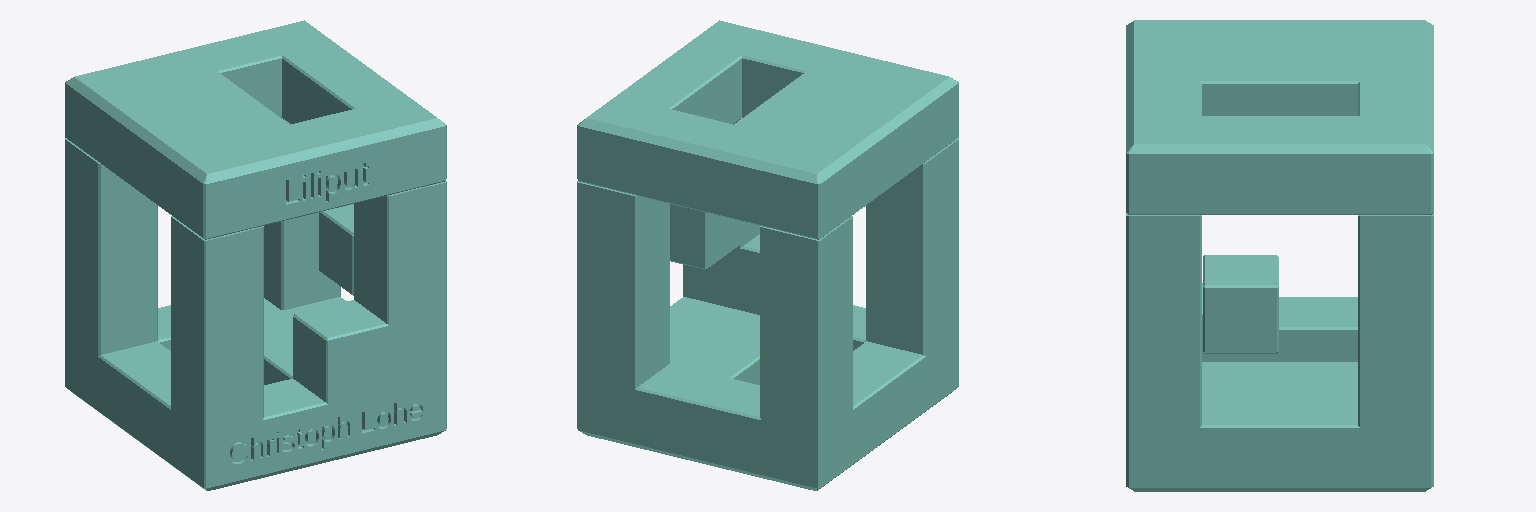
--- Render facts (derived) ---
Views: 3 orthographic renders of the robot side by side, from view 1: azimuth 30°, elevation 25°; view 2: azimuth 150°, elevation 25°; view 3: azimuth 270°, elevation 25°.
Model obj_1 with 1 links and 0 joints (none), rooted at link_piece_1, posed all joints at 0.
Links seen in each view (by area): view 1: link_piece_1; view 2: link_piece_1; view 3: link_piece_1.
Link boxes in pixels (left/top/right/bottom): link_piece_1: left=65, top=20, right=446, bottom=490; link_piece_1: left=577, top=20, right=958, bottom=490; link_piece_1: left=1126, top=20, right=1433, bottom=491.
Size in the robot's own frame: 0.641 by 0.6398 by 0.7983 metres.
1 mesh visuals loaded from 1 distinct referenced files (1 OBJ).

robot.urdf — obj_1:
<robot name="obj_1" version="1.0">
  <link name="link_piece_1">
    <collision name="piece_1-collision.001">
      <origin rpy="3.14159 -1.57080 0.00000" xyz="-0.15224 0.42227 0.40337"/>
      <geometry>
        <mesh filename="../meshes/obj/piece_1-collision.001.obj" scale="2.67513 2.67513 2.67513"/>
      </geometry>
    </collision>
    <collision name="piece_1-collision.002">
      <origin rpy="1.57080 0.00000 -3.14159" xyz="-0.23129 0.50132 0.40337"/>
      <geometry>
        <mesh filename="../meshes/obj/piece_1-collision.002.obj" scale="2.67513 2.67513 2.67513"/>
      </geometry>
    </collision>
    <collision name="piece_1-collision.003">
      <origin rpy="3.14159 1.57080 0.00000" xyz="-0.31034 0.42227 0.40337"/>
      <geometry>
        <mesh filename="../meshes/obj/piece_1-collision.003.obj" scale="2.67513 2.67513 2.67513"/>
      </geometry>
    </collision>
    <collision name="piece_1-collision.004">
      <origin rpy="-3.14159 -0.00000 -1.57080" xyz="-0.23129 0.42227 0.32432"/>
      <geometry>
        <mesh filename="../meshes/obj/piece_1-collision.004.obj" scale="2.67513 2.67513 2.67513"/>
      </geometry>
    </collision>
    <collision name="piece_1-collision.005">
      <origin rpy="3.14159 -1.57080 0.00000" xyz="-0.15342 0.50381 0.71549"/>
      <geometry>
        <mesh filename="../meshes/obj/piece_1-collision.005.obj" scale="2.67513 2.67513 2.67513"/>
      </geometry>
    </collision>
    <collision name="piece_1-collision.006">
      <origin rpy="1.57080 0.00000 -3.14159" xyz="-0.47323 0.82362 0.71549"/>
      <geometry>
        <mesh filename="../meshes/obj/piece_1-collision.006.obj" scale="2.67513 2.67513 2.67513"/>
      </geometry>
    </collision>
    <collision name="piece_1-collision.007">
      <origin rpy="3.14159 1.57080 0.00000" xyz="-0.79304 0.50381 0.71549"/>
      <geometry>
        <mesh filename="../meshes/obj/piece_1-collision.007.obj" scale="2.67513 2.67513 2.67513"/>
      </geometry>
    </collision>
    <collision name="piece_1-collision.008">
      <origin rpy="1.57080 0.00000 0.00000" xyz="-0.47323 0.18400 0.71549"/>
      <geometry>
        <mesh filename="../meshes/obj/piece_1-collision.008.obj" scale="2.67513 2.67513 2.67513"/>
      </geometry>
    </collision>
    <collision name="piece_1-collision.009">
      <origin rpy="0.00000 0.00000 -1.57080" xyz="-0.62783 0.73866 0.80045"/>
      <geometry>
        <mesh filename="../meshes/obj/piece_1-collision.009.obj" scale="2.67513 2.67513 2.67513"/>
      </geometry>
    </collision>
    <collision name="piece_1-collision.010">
      <origin rpy="0.00000 -0.00000 -1.57080" xyz="-0.62783 0.43540 0.80045"/>
      <geometry>
        <mesh filename="../meshes/obj/piece_1-collision.010.obj" scale="2.67513 2.67513 2.67513"/>
      </geometry>
    </collision>
    <collision name="piece_1-collision.011">
      <origin rpy="-0.00000 0.00000 -1.57080" xyz="-0.32456 0.73866 0.80045"/>
      <geometry>
        <mesh filename="../meshes/obj/piece_1-collision.011.obj" scale="2.67513 2.67513 2.67513"/>
      </geometry>
    </collision>
    <collision name="piece_1-collision.012">
      <origin rpy="0.00000 0.00000 -1.57080" xyz="-0.23849 0.43540 0.80045"/>
      <geometry>
        <mesh filename="../meshes/obj/piece_1-collision.012.obj" scale="2.67513 2.67513 2.67513"/>
      </geometry>
    </collision>
    <collision name="piece_1-collision.013">
      <origin rpy="0.00000 0.00000 -1.57080" xyz="-0.39309 0.26896 0.80045"/>
      <geometry>
        <mesh filename="../meshes/obj/piece_1-collision.013.obj" scale="2.67513 2.67513 2.67513"/>
      </geometry>
    </collision>
    <collision name="piece_1-collision.014">
      <origin rpy="1.57080 0.00000 0.78477" xyz="-0.15578 0.18636 0.71549"/>
      <geometry>
        <mesh filename="../meshes/obj/piece_1-collision.014.obj" scale="2.67513 2.67513 2.67513"/>
      </geometry>
    </collision>
    <collision name="piece_1-collision.015">
      <origin rpy="1.57080 0.00000 2.35676" xyz="-0.15578 0.82126 0.71549"/>
      <geometry>
        <mesh filename="../meshes/obj/piece_1-collision.015.obj" scale="2.67513 2.67513 2.67513"/>
      </geometry>
    </collision>
    <collision name="piece_1-collision.016">
      <origin rpy="-2.35619 1.57080 0.00000" xyz="-0.79068 0.82126 0.71549"/>
      <geometry>
        <mesh filename="../meshes/obj/piece_1-collision.016.obj" scale="2.67513 2.67513 2.67513"/>
      </geometry>
    </collision>
    <collision name="piece_1-collision.017">
      <origin rpy="1.57080 -0.00000 -0.78533" xyz="-0.79068 0.18636 0.71549"/>
      <geometry>
        <mesh filename="../meshes/obj/piece_1-collision.017.obj" scale="2.67513 2.67513 2.67513"/>
      </geometry>
    </collision>
    <collision name="piece_1-collision.018">
      <origin rpy="3.14159 1.57080 0.00000" xyz="-0.79264 0.74457 0.39883"/>
      <geometry>
        <mesh filename="../meshes/obj/piece_1-collision.018.obj" scale="2.67513 2.67513 2.67513"/>
      </geometry>
    </collision>
    <collision name="piece_1-collision.019">
      <origin rpy="3.14159 1.57080 0.00000" xyz="-0.79264 0.57813 0.08735"/>
      <geometry>
        <mesh filename="../meshes/obj/piece_1-collision.019.obj" scale="2.67513 2.67513 2.67513"/>
      </geometry>
    </collision>
    <collision name="piece_1-collision.020">
      <origin rpy="3.14159 1.57080 0.00000" xyz="-0.79264 0.26305 0.33042"/>
      <geometry>
        <mesh filename="../meshes/obj/piece_1-collision.020.obj" scale="2.67513 2.67513 2.67513"/>
      </geometry>
    </collision>
    <collision name="piece_1-collision.021">
      <origin rpy="1.57080 0.00000 -3.14159" xyz="-0.31232 0.34210 0.23837"/>
      <geometry>
        <mesh filename="../meshes/obj/piece_1-collision.021.obj" scale="2.67513 2.67513 2.67513"/>
      </geometry>
    </collision>
    <collision name="piece_1-collision.022">
      <origin rpy="1.57080 -0.00000 -3.14159" xyz="-0.23206 0.34210 0.32112"/>
      <geometry>
        <mesh filename="../meshes/obj/piece_1-collision.022.obj" scale="2.67513 2.67513 2.67513"/>
      </geometry>
    </collision>
    <collision name="piece_1-collision.023">
      <origin rpy="0.00000 -0.00000 -1.57080" xyz="-0.38900 0.26305 0.32099"/>
      <geometry>
        <mesh filename="../meshes/obj/piece_1-collision.023.obj" scale="2.67513 2.67513 2.67513"/>
      </geometry>
    </collision>
    <collision name="piece_1-collision.024">
      <origin rpy="3.14159 1.57080 0.00000" xyz="-0.47162 0.26305 0.23837"/>
      <geometry>
        <mesh filename="../meshes/obj/piece_1-collision.024.obj" scale="2.67513 2.67513 2.67513"/>
      </geometry>
    </collision>
    <collision name="piece_1-collision.025">
      <origin rpy="3.14159 1.57080 0.00000" xyz="-0.31111 0.26305 0.48145"/>
      <geometry>
        <mesh filename="../meshes/obj/piece_1-collision.025.obj" scale="2.67513 2.67513 2.67513"/>
      </geometry>
    </collision>
    <collision name="piece_1-collision.026">
      <origin rpy="1.57080 0.00000 -3.14159" xyz="-0.23206 0.34210 0.56050"/>
      <geometry>
        <mesh filename="../meshes/obj/piece_1-collision.026.obj" scale="2.67513 2.67513 2.67513"/>
      </geometry>
    </collision>
    <collision name="piece_1-collision.027">
      <origin rpy="0.00000 -0.00000 -1.57080" xyz="-0.23129 0.42227 0.48242"/>
      <geometry>
        <mesh filename="../meshes/obj/piece_1-collision.027.obj" scale="2.67513 2.67513 2.67513"/>
      </geometry>
    </collision>
    <collision name="piece_1-collision.028">
      <origin rpy="3.14159 -1.57080 0.00000" xyz="-0.15301 0.26305 0.39883"/>
      <geometry>
        <mesh filename="../meshes/obj/piece_1-collision.028.obj" scale="2.67513 2.67513 2.67513"/>
      </geometry>
    </collision>
    <collision name="piece_1-collision.029">
      <origin rpy="3.14159 -1.57080 0.00000" xyz="-0.15301 0.42949 0.08735"/>
      <geometry>
        <mesh filename="../meshes/obj/piece_1-collision.029.obj" scale="2.67513 2.67513 2.67513"/>
      </geometry>
    </collision>
    <collision name="piece_1-collision.030">
      <origin rpy="3.14159 -1.57080 0.00000" xyz="-0.15301 0.74457 0.33042"/>
      <geometry>
        <mesh filename="../meshes/obj/piece_1-collision.030.obj" scale="2.67513 2.67513 2.67513"/>
      </geometry>
    </collision>
    <collision name="piece_1-collision.031">
      <origin rpy="1.57080 0.00000 -3.14159" xyz="-0.23206 0.82362 0.39883"/>
      <geometry>
        <mesh filename="../meshes/obj/piece_1-collision.031.obj" scale="2.67513 2.67513 2.67513"/>
      </geometry>
    </collision>
    <collision name="piece_1-collision.032">
      <origin rpy="1.57080 -0.00000 3.14159" xyz="-0.39851 0.82362 0.08735"/>
      <geometry>
        <mesh filename="../meshes/obj/piece_1-collision.032.obj" scale="2.67513 2.67513 2.67513"/>
      </geometry>
    </collision>
    <collision name="piece_1-collision.033">
      <origin rpy="1.57080 0.00000 -3.14159" xyz="-0.71359 0.82362 0.33042"/>
      <geometry>
        <mesh filename="../meshes/obj/piece_1-collision.033.obj" scale="2.67513 2.67513 2.67513"/>
      </geometry>
    </collision>
    <collision name="piece_1-collision.034">
      <origin rpy="0.00000 0.00000 -1.57080" xyz="-0.71359 0.50381 0.16048"/>
      <geometry>
        <mesh filename="../meshes/obj/piece_1-collision.034.obj" scale="2.67513 2.67513 2.67513"/>
      </geometry>
    </collision>
    <collision name="piece_1-collision.035">
      <origin rpy="0.00000 -0.00000 -1.57080" xyz="-0.55308 0.26305 0.16048"/>
      <geometry>
        <mesh filename="../meshes/obj/piece_1-collision.035.obj" scale="2.67513 2.67513 2.67513"/>
      </geometry>
    </collision>
    <collision name="piece_1-collision.036">
      <origin rpy="0.00000 0.00000 -1.57080" xyz="-0.47283 0.74457 0.16048"/>
      <geometry>
        <mesh filename="../meshes/obj/piece_1-collision.036.obj" scale="2.67513 2.67513 2.67513"/>
      </geometry>
    </collision>
    <collision name="piece_1-collision.037">
      <origin rpy="-0.00000 -0.00000 1.57080" xyz="-0.31232 0.50618 0.16048"/>
      <geometry>
        <mesh filename="../meshes/obj/piece_1-collision.037.obj" scale="2.67513 2.67513 2.67513"/>
      </geometry>
    </collision>
    <collision name="piece_1-collision.038">
      <origin rpy="1.57080 0.00000 -3.14159" xyz="-0.55308 0.34210 0.08143"/>
      <geometry>
        <mesh filename="../meshes/obj/piece_1-collision.038.obj" scale="2.67513 2.67513 2.67513"/>
      </geometry>
    </collision>
    <collision name="piece_1-collision.039">
      <origin rpy="3.14159 -1.57080 0.00000" xyz="-0.63454 0.50381 0.08143"/>
      <geometry>
        <mesh filename="../meshes/obj/piece_1-collision.039.obj" scale="2.67513 2.67513 2.67513"/>
      </geometry>
    </collision>
    <collision name="piece_1-collision.040">
      <origin rpy="1.57080 0.00000 0.00000" xyz="-0.55308 0.66552 0.08143"/>
      <geometry>
        <mesh filename="../meshes/obj/piece_1-collision.040.obj" scale="2.67513 2.67513 2.67513"/>
      </geometry>
    </collision>
    <collision name="piece_1-collision.041">
      <origin rpy="3.14159 1.57080 0.00000" xyz="-0.47162 0.50381 0.08143"/>
      <geometry>
        <mesh filename="../meshes/obj/piece_1-collision.041.obj" scale="2.67513 2.67513 2.67513"/>
      </geometry>
    </collision>
    <collision name="piece_1-collision.042">
      <origin rpy="1.57080 0.00000 0.00000" xyz="-0.31232 0.18400 0.16760"/>
      <geometry>
        <mesh filename="../meshes/obj/piece_1-collision.042.obj" scale="2.67513 2.67513 2.67513"/>
      </geometry>
    </collision>
    <collision name="piece_1-collision.043">
      <origin rpy="1.57080 0.00000 0.00000" xyz="-0.23206 0.18400 0.47909"/>
      <geometry>
        <mesh filename="../meshes/obj/piece_1-collision.043.obj" scale="2.67513 2.67513 2.67513"/>
      </geometry>
    </collision>
    <collision name="piece_1-collision.044">
      <origin rpy="1.57080 0.00000 0.00000" xyz="-0.62740 0.18400 0.08735"/>
      <geometry>
        <mesh filename="../meshes/obj/piece_1-collision.044.obj" scale="2.67513 2.67513 2.67513"/>
      </geometry>
    </collision>
    <collision name="piece_1-collision.045">
      <origin rpy="1.57080 0.00000 0.00000" xyz="-0.71282 0.18400 0.39888"/>
      <geometry>
        <mesh filename="../meshes/obj/piece_1-collision.045.obj" scale="2.67513 2.67513 2.67513"/>
      </geometry>
    </collision>
    <collision name="piece_1-collision.046">
      <origin rpy="-3.14159 -0.00000 -1.57080" xyz="-0.70768 0.26896 0.00238"/>
      <geometry>
        <mesh filename="../meshes/obj/piece_1-collision.046.obj" scale="2.67513 2.67513 2.67513"/>
      </geometry>
    </collision>
    <collision name="piece_1-collision.047">
      <origin rpy="3.14159 -0.00000 -1.57080" xyz="-0.70768 0.57222 0.00238"/>
      <geometry>
        <mesh filename="../meshes/obj/piece_1-collision.047.obj" scale="2.67513 2.67513 2.67513"/>
      </geometry>
    </collision>
    <collision name="piece_1-collision.048">
      <origin rpy="3.14159 0.00000 -1.57080" xyz="-0.40442 0.73866 0.00238"/>
      <geometry>
        <mesh filename="../meshes/obj/piece_1-collision.048.obj" scale="2.67513 2.67513 2.67513"/>
      </geometry>
    </collision>
    <collision name="piece_1-collision.049">
      <origin rpy="-3.14159 0.00000 -1.57080" xyz="-0.31823 0.43540 0.00238"/>
      <geometry>
        <mesh filename="../meshes/obj/piece_1-collision.049.obj" scale="2.67513 2.67513 2.67513"/>
      </geometry>
    </collision>
    <collision name="piece_1-collision.050">
      <origin rpy="-3.14159 -0.00000 -1.57080" xyz="-0.55308 0.26896 0.00238"/>
      <geometry>
        <mesh filename="../meshes/obj/piece_1-collision.050.obj" scale="2.67513 2.67513 2.67513"/>
      </geometry>
    </collision>
    <collision name="piece_1-collision.051">
      <origin rpy="1.57080 0.00000 -3.14159" xyz="-0.39297 0.34210 0.72140"/>
      <geometry>
        <mesh filename="../meshes/obj/piece_1-collision.051.obj" scale="2.67513 2.67513 2.67513"/>
      </geometry>
    </collision>
    <collision name="piece_1-collision.052">
      <origin rpy="3.14159 1.57080 0.00000" xyz="-0.31152 0.50381 0.72140"/>
      <geometry>
        <mesh filename="../meshes/obj/piece_1-collision.052.obj" scale="2.67513 2.67513 2.67513"/>
      </geometry>
    </collision>
    <collision name="piece_1-collision.053">
      <origin rpy="1.57080 0.00000 0.00000" xyz="-0.39297 0.66552 0.72140"/>
      <geometry>
        <mesh filename="../meshes/obj/piece_1-collision.053.obj" scale="2.67513 2.67513 2.67513"/>
      </geometry>
    </collision>
    <collision name="piece_1-collision.054">
      <origin rpy="-0.00000 1.57080 0.00000" xyz="-0.47443 0.50381 0.72140"/>
      <geometry>
        <mesh filename="../meshes/obj/piece_1-collision.054.obj" scale="2.67513 2.67513 2.67513"/>
      </geometry>
    </collision>
    <collision name="piece_1-collision.055">
      <origin rpy="3.14159 0.00000 -1.57080" xyz="-0.39514 0.26305 0.64213"/>
      <geometry>
        <mesh filename="../meshes/obj/piece_1-collision.055.obj" scale="2.67513 2.67513 2.67513"/>
      </geometry>
    </collision>
    <collision name="piece_1-collision.056">
      <origin rpy="-3.14159 -0.00000 -1.57080" xyz="-0.55685 0.50381 0.64235"/>
      <geometry>
        <mesh filename="../meshes/obj/piece_1-collision.056.obj" scale="2.67513 2.67513 2.67513"/>
      </geometry>
    </collision>
    <collision name="piece_1-collision.057">
      <origin rpy="-3.14159 -0.00000 -1.57080" xyz="-0.39514 0.74457 0.64191"/>
      <geometry>
        <mesh filename="../meshes/obj/piece_1-collision.057.obj" scale="2.67513 2.67513 2.67513"/>
      </geometry>
    </collision>
    <collision name="piece_1-collision.058">
      <origin rpy="1.57080 0.00000 0.00000" xyz="-0.71359 0.66552 0.40120"/>
      <geometry>
        <mesh filename="../meshes/obj/piece_1-collision.058.obj" scale="2.67513 2.67513 2.67513"/>
      </geometry>
    </collision>
    <collision name="piece_1-collision.059">
      <origin rpy="1.57080 0.00000 0.00000" xyz="-0.23206 0.66552 0.40120"/>
      <geometry>
        <mesh filename="../meshes/obj/piece_1-collision.059.obj" scale="2.67513 2.67513 2.67513"/>
      </geometry>
    </collision>
    <collision name="piece_1-collision.060">
      <origin rpy="3.14159 1.57080 0.00000" xyz="-0.31111 0.74457 0.40120"/>
      <geometry>
        <mesh filename="../meshes/obj/piece_1-collision.060.obj" scale="2.67513 2.67513 2.67513"/>
      </geometry>
    </collision>
    <collision name="piece_1-collision.061">
      <origin rpy="1.57080 0.00000 -3.14159" xyz="-0.71359 0.34210 0.40120"/>
      <geometry>
        <mesh filename="../meshes/obj/piece_1-collision.061.obj" scale="2.67513 2.67513 2.67513"/>
      </geometry>
    </collision>
    <collision name="piece_1-collision.062">
      <origin rpy="3.14159 -1.57080 0.00000" xyz="-0.63454 0.26305 0.40120"/>
      <geometry>
        <mesh filename="../meshes/obj/piece_1-collision.062.obj" scale="2.67513 2.67513 2.67513"/>
      </geometry>
    </collision>
    <collision name="piece_1-collision.063">
      <origin rpy="-3.14159 0.00000 -1.57080" xyz="-0.71127 0.50376 0.64191"/>
      <geometry>
        <mesh filename="../meshes/obj/piece_1-collision.063.obj" scale="2.67513 2.67513 2.67513"/>
      </geometry>
    </collision>
    <collision name="piece_1-collision.064">
      <origin rpy="3.14159 -1.57080 0.00000" xyz="-0.63454 0.74457 0.40120"/>
      <geometry>
        <mesh filename="../meshes/obj/piece_1-collision.064.obj" scale="2.67513 2.67513 2.67513"/>
      </geometry>
    </collision>
    <collision name="piece_1-collision.065">
      <origin rpy="1.57080 0.00000 0.00000" xyz="-0.22733 0.33776 0.37979"/>
      <geometry>
        <mesh filename="../meshes/obj/piece_1-collision.065.obj" scale="0.01338 0.01338 0.01338"/>
      </geometry>
    </collision>
    <collision name="piece_1-collision.066">
      <origin rpy="1.57080 0.00000 0.00000" xyz="-0.22733 0.33776 0.37979"/>
      <geometry>
        <mesh filename="../meshes/obj/piece_1-collision.066.obj" scale="0.01338 0.01338 0.01338"/>
      </geometry>
    </collision>
    <collision name="piece_1-collision.067">
      <origin rpy="1.57080 0.00000 0.00000" xyz="-0.22733 0.33776 0.37979"/>
      <geometry>
        <mesh filename="../meshes/obj/piece_1-collision.067.obj" scale="0.01338 0.01338 0.01338"/>
      </geometry>
    </collision>
    <collision name="piece_1-collision.068">
      <origin rpy="1.57080 0.00000 0.00000" xyz="-0.22733 0.33776 0.37979"/>
      <geometry>
        <mesh filename="../meshes/obj/piece_1-collision.068.obj" scale="0.01338 0.01338 0.01338"/>
      </geometry>
    </collision>
    <collision name="piece_1-collision.069">
      <origin rpy="1.57080 0.00000 0.00000" xyz="-0.22733 0.33776 0.37979"/>
      <geometry>
        <mesh filename="../meshes/obj/piece_1-collision.069.obj" scale="0.01338 0.01338 0.01338"/>
      </geometry>
    </collision>
    <collision name="piece_1-collision.070">
      <origin rpy="1.57080 0.00000 0.00000" xyz="-0.22733 0.33776 0.37979"/>
      <geometry>
        <mesh filename="../meshes/obj/piece_1-collision.070.obj" scale="0.01338 0.01338 0.01338"/>
      </geometry>
    </collision>
    <collision name="piece_1-collision.071">
      <origin rpy="1.57080 0.00000 0.00000" xyz="-0.22733 0.33776 0.37979"/>
      <geometry>
        <mesh filename="../meshes/obj/piece_1-collision.071.obj" scale="0.01338 0.01338 0.01338"/>
      </geometry>
    </collision>
    <collision name="piece_1-collision.072">
      <origin rpy="1.57080 0.00000 0.00000" xyz="-0.22733 0.33776 0.37979"/>
      <geometry>
        <mesh filename="../meshes/obj/piece_1-collision.072.obj" scale="0.01338 0.01338 0.01338"/>
      </geometry>
    </collision>
    <collision name="piece_1-collision.073">
      <origin rpy="1.57080 0.00000 0.00000" xyz="-0.22733 0.33776 0.37979"/>
      <geometry>
        <mesh filename="../meshes/obj/piece_1-collision.073.obj" scale="0.01338 0.01338 0.01338"/>
      </geometry>
    </collision>
    <collision name="piece_1-collision.074">
      <origin rpy="1.57080 0.00000 0.00000" xyz="-0.22733 0.33776 0.37979"/>
      <geometry>
        <mesh filename="../meshes/obj/piece_1-collision.074.obj" scale="0.01338 0.01338 0.01338"/>
      </geometry>
    </collision>
    <collision name="piece_1-collision.075">
      <origin rpy="1.57080 0.00000 0.00000" xyz="-0.22733 0.33776 0.37979"/>
      <geometry>
        <mesh filename="../meshes/obj/piece_1-collision.075.obj" scale="0.01338 0.01338 0.01338"/>
      </geometry>
    </collision>
    <collision name="piece_1-collision.076">
      <origin rpy="1.57080 0.00000 0.00000" xyz="-0.22733 0.33776 0.37979"/>
      <geometry>
        <mesh filename="../meshes/obj/piece_1-collision.076.obj" scale="0.01338 0.01338 0.01338"/>
      </geometry>
    </collision>
    <collision name="piece_1-collision.077">
      <origin rpy="1.57080 0.00000 0.00000" xyz="-0.22733 0.33776 0.37979"/>
      <geometry>
        <mesh filename="../meshes/obj/piece_1-collision.077.obj" scale="0.01338 0.01338 0.01338"/>
      </geometry>
    </collision>
    <collision name="piece_1-collision.078">
      <origin rpy="1.57080 0.00000 0.00000" xyz="-0.22733 0.33776 0.37979"/>
      <geometry>
        <mesh filename="../meshes/obj/piece_1-collision.078.obj" scale="0.01338 0.01338 0.01338"/>
      </geometry>
    </collision>
    <collision name="piece_1-collision.079">
      <origin rpy="1.57080 0.00000 0.00000" xyz="-0.22733 0.33776 0.37979"/>
      <geometry>
        <mesh filename="../meshes/obj/piece_1-collision.079.obj" scale="0.01338 0.01338 0.01338"/>
      </geometry>
    </collision>
    <collision name="piece_1-collision.080">
      <origin rpy="1.57080 0.00000 0.00000" xyz="-0.22733 0.33776 0.37979"/>
      <geometry>
        <mesh filename="../meshes/obj/piece_1-collision.080.obj" scale="0.01338 0.01338 0.01338"/>
      </geometry>
    </collision>
    <collision name="piece_1-collision.081">
      <origin rpy="1.57080 0.00000 0.00000" xyz="-0.22733 0.33776 0.37979"/>
      <geometry>
        <mesh filename="../meshes/obj/piece_1-collision.081.obj" scale="0.01338 0.01338 0.01338"/>
      </geometry>
    </collision>
    <collision name="piece_1-collision.082">
      <origin rpy="1.57080 0.00000 0.00000" xyz="-0.22733 0.33776 0.37979"/>
      <geometry>
        <mesh filename="../meshes/obj/piece_1-collision.082.obj" scale="0.01338 0.01338 0.01338"/>
      </geometry>
    </collision>
    <collision name="piece_1-collision.083">
      <origin rpy="1.57080 0.00000 0.00000" xyz="-0.22733 0.33776 0.37979"/>
      <geometry>
        <mesh filename="../meshes/obj/piece_1-collision.083.obj" scale="0.01338 0.01338 0.01338"/>
      </geometry>
    </collision>
    <collision name="piece_1-collision.084">
      <origin rpy="1.57080 0.00000 0.00000" xyz="-0.22733 0.33776 0.37979"/>
      <geometry>
        <mesh filename="../meshes/obj/piece_1-collision.084.obj" scale="0.01338 0.01338 0.01338"/>
      </geometry>
    </collision>
    <collision name="piece_1-collision.085">
      <origin rpy="1.57080 0.00000 0.00000" xyz="-0.22733 0.33776 0.37979"/>
      <geometry>
        <mesh filename="../meshes/obj/piece_1-collision.085.obj" scale="0.01338 0.01338 0.01338"/>
      </geometry>
    </collision>
    <collision name="piece_1-collision.086">
      <origin rpy="1.57080 0.00000 0.00000" xyz="-0.22733 0.33776 0.37979"/>
      <geometry>
        <mesh filename="../meshes/obj/piece_1-collision.086.obj" scale="0.01338 0.01338 0.01338"/>
      </geometry>
    </collision>
    <collision name="piece_1-collision.087">
      <origin rpy="1.57080 0.00000 0.00000" xyz="-0.22733 0.33776 0.37979"/>
      <geometry>
        <mesh filename="../meshes/obj/piece_1-collision.087.obj" scale="0.01338 0.01338 0.01338"/>
      </geometry>
    </collision>
    <collision name="piece_1-collision.088">
      <origin rpy="1.57080 0.00000 0.00000" xyz="-0.22733 0.33776 0.37979"/>
      <geometry>
        <mesh filename="../meshes/obj/piece_1-collision.088.obj" scale="0.01338 0.01338 0.01338"/>
      </geometry>
    </collision>
    <collision name="piece_1-collision.089">
      <origin rpy="1.57080 0.00000 0.00000" xyz="-0.22733 0.33776 0.37979"/>
      <geometry>
        <mesh filename="../meshes/obj/piece_1-collision.089.obj" scale="0.01338 0.01338 0.01338"/>
      </geometry>
    </collision>
    <collision name="piece_1-collision.090">
      <origin rpy="1.57080 0.00000 0.00000" xyz="-0.22733 0.33776 0.37979"/>
      <geometry>
        <mesh filename="../meshes/obj/piece_1-collision.090.obj" scale="0.01338 0.01338 0.01338"/>
      </geometry>
    </collision>
    <collision name="piece_1-collision.091">
      <origin rpy="1.57080 0.00000 0.00000" xyz="-0.22733 0.33776 0.37979"/>
      <geometry>
        <mesh filename="../meshes/obj/piece_1-collision.091.obj" scale="0.01338 0.01338 0.01338"/>
      </geometry>
    </collision>
    <collision name="piece_1-collision.092">
      <origin rpy="1.57080 0.00000 0.00000" xyz="-0.22733 0.33776 0.37979"/>
      <geometry>
        <mesh filename="../meshes/obj/piece_1-collision.092.obj" scale="0.01338 0.01338 0.01338"/>
      </geometry>
    </collision>
    <collision name="piece_1-collision.093">
      <origin rpy="1.57080 0.00000 0.00000" xyz="-0.22733 0.33776 0.37979"/>
      <geometry>
        <mesh filename="../meshes/obj/piece_1-collision.093.obj" scale="0.01338 0.01338 0.01338"/>
      </geometry>
    </collision>
    <collision name="piece_1-collision.094">
      <origin rpy="1.57080 0.00000 0.00000" xyz="-0.22733 0.33776 0.37979"/>
      <geometry>
        <mesh filename="../meshes/obj/piece_1-collision.094.obj" scale="0.01338 0.01338 0.01338"/>
      </geometry>
    </collision>
    <collision name="piece_1-collision.095">
      <origin rpy="1.57080 0.00000 0.00000" xyz="-0.22733 0.33776 0.37979"/>
      <geometry>
        <mesh filename="../meshes/obj/piece_1-collision.095.obj" scale="0.01338 0.01338 0.01338"/>
      </geometry>
    </collision>
    <collision name="piece_1-collision.096">
      <origin rpy="1.57080 0.00000 0.00000" xyz="-0.22733 0.33776 0.37979"/>
      <geometry>
        <mesh filename="../meshes/obj/piece_1-collision.096.obj" scale="0.01338 0.01338 0.01338"/>
      </geometry>
    </collision>
    <collision name="piece_1-collision.097">
      <origin rpy="1.57080 0.00000 0.00000" xyz="-0.22733 0.33776 0.37979"/>
      <geometry>
        <mesh filename="../meshes/obj/piece_1-collision.097.obj" scale="0.01338 0.01338 0.01338"/>
      </geometry>
    </collision>
    <collision name="piece_1-collision.098">
      <origin rpy="1.57080 0.00000 0.00000" xyz="-0.22733 0.33776 0.37979"/>
      <geometry>
        <mesh filename="../meshes/obj/piece_1-collision.098.obj" scale="0.01338 0.01338 0.01338"/>
      </geometry>
    </collision>
    <collision name="piece_1-collision.099">
      <origin rpy="1.57080 0.00000 0.00000" xyz="-0.22733 0.33776 0.37979"/>
      <geometry>
        <mesh filename="../meshes/obj/piece_1-collision.099.obj" scale="0.01338 0.01338 0.01338"/>
      </geometry>
    </collision>
    <collision name="piece_1-collision.100">
      <origin rpy="1.57080 0.00000 0.00000" xyz="-0.22733 0.33776 0.37979"/>
      <geometry>
        <mesh filename="../meshes/obj/piece_1-collision.100.obj" scale="0.01338 0.01338 0.01338"/>
      </geometry>
    </collision>
    <collision name="piece_1-collision.101">
      <origin rpy="1.57080 0.00000 0.00000" xyz="-0.22733 0.33776 0.37979"/>
      <geometry>
        <mesh filename="../meshes/obj/piece_1-collision.101.obj" scale="0.01338 0.01338 0.01338"/>
      </geometry>
    </collision>
    <collision name="piece_1-collision.102">
      <origin rpy="1.57080 0.00000 0.00000" xyz="-0.22733 0.33776 0.37979"/>
      <geometry>
        <mesh filename="../meshes/obj/piece_1-collision.102.obj" scale="0.01338 0.01338 0.01338"/>
      </geometry>
    </collision>
    <collision name="piece_1-collision.103">
      <origin rpy="1.57080 0.00000 0.00000" xyz="-0.22733 0.33776 0.37979"/>
      <geometry>
        <mesh filename="../meshes/obj/piece_1-collision.103.obj" scale="0.01338 0.01338 0.01338"/>
      </geometry>
    </collision>
    <collision name="piece_1-collision.104">
      <origin rpy="1.57080 0.00000 0.00000" xyz="-0.22733 0.33776 0.37979"/>
      <geometry>
        <mesh filename="../meshes/obj/piece_1-collision.104.obj" scale="0.01338 0.01338 0.01338"/>
      </geometry>
    </collision>
    <collision name="piece_1-collision.105">
      <origin rpy="1.57080 0.00000 0.00000" xyz="-0.22733 0.33776 0.37979"/>
      <geometry>
        <mesh filename="../meshes/obj/piece_1-collision.105.obj" scale="0.01338 0.01338 0.01338"/>
      </geometry>
    </collision>
    <collision name="piece_1-collision.106">
      <origin rpy="1.57080 0.00000 0.00000" xyz="-0.22733 0.33776 0.37979"/>
      <geometry>
        <mesh filename="../meshes/obj/piece_1-collision.106.obj" scale="0.01338 0.01338 0.01338"/>
      </geometry>
    </collision>
    <collision name="piece_1-collision.107">
      <origin rpy="1.57080 0.00000 0.00000" xyz="-0.22733 0.33776 0.37979"/>
      <geometry>
        <mesh filename="../meshes/obj/piece_1-collision.107.obj" scale="0.01338 0.01338 0.01338"/>
      </geometry>
    </collision>
    <collision name="piece_1-collision.108">
      <origin rpy="1.57080 0.00000 0.00000" xyz="-0.22733 0.33776 0.37979"/>
      <geometry>
        <mesh filename="../meshes/obj/piece_1-collision.108.obj" scale="0.01338 0.01338 0.01338"/>
      </geometry>
    </collision>
    <collision name="piece_1-collision.109">
      <origin rpy="1.57080 0.00000 0.00000" xyz="-0.22733 0.33776 0.37979"/>
      <geometry>
        <mesh filename="../meshes/obj/piece_1-collision.109.obj" scale="0.01338 0.01338 0.01338"/>
      </geometry>
    </collision>
    <collision name="piece_1-collision.110">
      <origin rpy="1.57080 0.00000 0.00000" xyz="-0.22733 0.33776 0.37979"/>
      <geometry>
        <mesh filename="../meshes/obj/piece_1-collision.110.obj" scale="0.01338 0.01338 0.01338"/>
      </geometry>
    </collision>
    <collision name="piece_1-collision.111">
      <origin rpy="1.57080 0.00000 0.00000" xyz="-0.22733 0.33776 0.37979"/>
      <geometry>
        <mesh filename="../meshes/obj/piece_1-collision.111.obj" scale="0.01338 0.01338 0.01338"/>
      </geometry>
    </collision>
    <collision name="piece_1-collision.112">
      <origin rpy="1.57080 0.00000 0.00000" xyz="-0.22733 0.33776 0.37979"/>
      <geometry>
        <mesh filename="../meshes/obj/piece_1-collision.112.obj" scale="0.01338 0.01338 0.01338"/>
      </geometry>
    </collision>
    <collision name="piece_1-collision.113">
      <origin rpy="1.57080 0.00000 0.00000" xyz="-0.22733 0.33776 0.37979"/>
      <geometry>
        <mesh filename="../meshes/obj/piece_1-collision.113.obj" scale="0.01338 0.01338 0.01338"/>
      </geometry>
    </collision>
    <collision name="piece_1-collision.114">
      <origin rpy="1.57080 0.00000 0.00000" xyz="-0.22733 0.33776 0.37979"/>
      <geometry>
        <mesh filename="../meshes/obj/piece_1-collision.114.obj" scale="0.01338 0.01338 0.01338"/>
      </geometry>
    </collision>
    <collision name="piece_1-collision.115">
      <origin rpy="1.57080 0.00000 0.00000" xyz="-0.22733 0.33776 0.37979"/>
      <geometry>
        <mesh filename="../meshes/obj/piece_1-collision.115.obj" scale="0.01338 0.01338 0.01338"/>
      </geometry>
    </collision>
    <collision name="piece_1-collision.116">
      <origin rpy="1.57080 0.00000 0.00000" xyz="-0.22733 0.33776 0.37979"/>
      <geometry>
        <mesh filename="../meshes/obj/piece_1-collision.116.obj" scale="0.01338 0.01338 0.01338"/>
      </geometry>
    </collision>
    <collision name="piece_1-collision.117">
      <origin rpy="1.57080 0.00000 0.00000" xyz="-0.22733 0.33776 0.37979"/>
      <geometry>
        <mesh filename="../meshes/obj/piece_1-collision.117.obj" scale="0.01338 0.01338 0.01338"/>
      </geometry>
    </collision>
    <collision name="piece_1-collision.118">
      <origin rpy="1.57080 0.00000 0.00000" xyz="-0.22733 0.33776 0.37979"/>
      <geometry>
        <mesh filename="../meshes/obj/piece_1-collision.118.obj" scale="0.01338 0.01338 0.01338"/>
      </geometry>
    </collision>
    <collision name="piece_1-collision.119">
      <origin rpy="1.57080 0.00000 0.00000" xyz="-0.22733 0.33776 0.37979"/>
      <geometry>
        <mesh filename="../meshes/obj/piece_1-collision.119.obj" scale="0.01338 0.01338 0.01338"/>
      </geometry>
    </collision>
    <collision name="piece_1-collision.120">
      <origin rpy="1.57080 0.00000 0.00000" xyz="-0.22733 0.33776 0.37979"/>
      <geometry>
        <mesh filename="../meshes/obj/piece_1-collision.120.obj" scale="0.01338 0.01338 0.01338"/>
      </geometry>
    </collision>
    <collision name="piece_1-collision.121">
      <origin rpy="1.57080 0.00000 0.00000" xyz="-0.22733 0.33776 0.37979"/>
      <geometry>
        <mesh filename="../meshes/obj/piece_1-collision.121.obj" scale="0.01338 0.01338 0.01338"/>
      </geometry>
    </collision>
    <collision name="piece_1-collision.122">
      <origin rpy="1.57080 0.00000 0.00000" xyz="-0.22733 0.33776 0.37979"/>
      <geometry>
        <mesh filename="../meshes/obj/piece_1-collision.122.obj" scale="0.01338 0.01338 0.01338"/>
      </geometry>
    </collision>
    <collision name="piece_1-collision.123">
      <origin rpy="1.57080 0.00000 0.00000" xyz="-0.22733 0.33776 0.37979"/>
      <geometry>
        <mesh filename="../meshes/obj/piece_1-collision.123.obj" scale="0.01338 0.01338 0.01338"/>
      </geometry>
    </collision>
    <collision name="piece_1-collision.124">
      <origin rpy="1.57080 0.00000 0.00000" xyz="-0.22733 0.33776 0.37979"/>
      <geometry>
        <mesh filename="../meshes/obj/piece_1-collision.124.obj" scale="0.01338 0.01338 0.01338"/>
      </geometry>
    </collision>
    <collision name="piece_1-collision.125">
      <origin rpy="1.57080 0.00000 0.00000" xyz="-0.22733 0.33776 0.37979"/>
      <geometry>
        <mesh filename="../meshes/obj/piece_1-collision.125.obj" scale="0.01338 0.01338 0.01338"/>
      </geometry>
    </collision>
    <collision name="piece_1-collision.126">
      <origin rpy="1.57080 0.00000 0.00000" xyz="-0.22733 0.33776 0.37979"/>
      <geometry>
        <mesh filename="../meshes/obj/piece_1-collision.126.obj" scale="0.01338 0.01338 0.01338"/>
      </geometry>
    </collision>
    <collision name="piece_1-collision.127">
      <origin rpy="1.57080 0.00000 0.00000" xyz="-0.22733 0.33776 0.37979"/>
      <geometry>
        <mesh filename="../meshes/obj/piece_1-collision.127.obj" scale="0.01338 0.01338 0.01338"/>
      </geometry>
    </collision>
    <collision name="piece_1-collision.128">
      <origin rpy="1.57080 0.00000 0.00000" xyz="-0.22733 0.33776 0.37979"/>
      <geometry>
        <mesh filename="../meshes/obj/piece_1-collision.128.obj" scale="0.01338 0.01338 0.01338"/>
      </geometry>
    </collision>
    <collision name="piece_1-collision.129">
      <origin rpy="1.57080 0.00000 0.00000" xyz="-0.22733 0.33776 0.37979"/>
      <geometry>
        <mesh filename="../meshes/obj/piece_1-collision.129.obj" scale="0.01338 0.01338 0.01338"/>
      </geometry>
    </collision>
    <collision name="piece_1-collision.130">
      <origin rpy="1.57080 0.00000 0.00000" xyz="-0.22733 0.33776 0.37979"/>
      <geometry>
        <mesh filename="../meshes/obj/piece_1-collision.130.obj" scale="0.01338 0.01338 0.01338"/>
      </geometry>
    </collision>
    <collision name="piece_1-collision.131">
      <origin rpy="1.57080 0.00000 0.00000" xyz="-0.22733 0.33776 0.37979"/>
      <geometry>
        <mesh filename="../meshes/obj/piece_1-collision.131.obj" scale="0.01338 0.01338 0.01338"/>
      </geometry>
    </collision>
    <collision name="piece_1-collision.132">
      <origin rpy="1.57080 0.00000 0.00000" xyz="-0.22733 0.33776 0.37979"/>
      <geometry>
        <mesh filename="../meshes/obj/piece_1-collision.132.obj" scale="0.01338 0.01338 0.01338"/>
      </geometry>
    </collision>
    <collision name="piece_1-collision.133">
      <origin rpy="1.57080 0.00000 0.00000" xyz="-0.22733 0.33776 0.37979"/>
      <geometry>
        <mesh filename="../meshes/obj/piece_1-collision.133.obj" scale="0.01338 0.01338 0.01338"/>
      </geometry>
    </collision>
    <collision name="piece_1-collision.134">
      <origin rpy="1.57080 0.00000 0.00000" xyz="-0.22733 0.33776 0.37979"/>
      <geometry>
        <mesh filename="../meshes/obj/piece_1-collision.134.obj" scale="0.01338 0.01338 0.01338"/>
      </geometry>
    </collision>
    <collision name="piece_1-collision.135">
      <origin rpy="1.57080 0.00000 0.00000" xyz="-0.22733 0.33776 0.37979"/>
      <geometry>
        <mesh filename="../meshes/obj/piece_1-collision.135.obj" scale="0.01338 0.01338 0.01338"/>
      </geometry>
    </collision>
    <collision name="piece_1-collision.136">
      <origin rpy="1.57080 0.00000 0.00000" xyz="-0.22733 0.33776 0.37979"/>
      <geometry>
        <mesh filename="../meshes/obj/piece_1-collision.136.obj" scale="0.01338 0.01338 0.01338"/>
      </geometry>
    </collision>
    <collision name="piece_1-collision.137">
      <origin rpy="1.57080 0.00000 0.00000" xyz="-0.22733 0.33776 0.37979"/>
      <geometry>
        <mesh filename="../meshes/obj/piece_1-collision.137.obj" scale="0.01338 0.01338 0.01338"/>
      </geometry>
    </collision>
    <collision name="piece_1-collision.138">
      <origin rpy="1.57080 0.00000 0.00000" xyz="-0.22733 0.33776 0.37979"/>
      <geometry>
        <mesh filename="../meshes/obj/piece_1-collision.138.obj" scale="0.01338 0.01338 0.01338"/>
      </geometry>
    </collision>
    <collision name="piece_1-collision.139">
      <origin rpy="1.57080 0.00000 0.00000" xyz="-0.22733 0.33776 0.37979"/>
      <geometry>
        <mesh filename="../meshes/obj/piece_1-collision.139.obj" scale="0.01338 0.01338 0.01338"/>
      </geometry>
    </collision>
    <collision name="piece_1-collision.140">
      <origin rpy="1.57080 0.00000 0.00000" xyz="-0.22733 0.33776 0.37979"/>
      <geometry>
        <mesh filename="../meshes/obj/piece_1-collision.140.obj" scale="0.01338 0.01338 0.01338"/>
      </geometry>
    </collision>
    <collision name="piece_1-collision.141">
      <origin rpy="1.57080 0.00000 0.00000" xyz="-0.22733 0.33776 0.37979"/>
      <geometry>
        <mesh filename="../meshes/obj/piece_1-collision.141.obj" scale="0.01338 0.01338 0.01338"/>
      </geometry>
    </collision>
    <collision name="piece_1-collision.142">
      <origin rpy="1.57080 0.00000 0.00000" xyz="-0.22733 0.33776 0.37979"/>
      <geometry>
        <mesh filename="../meshes/obj/piece_1-collision.142.obj" scale="0.01338 0.01338 0.01338"/>
      </geometry>
    </collision>
    <collision name="piece_1-collision.143">
      <origin rpy="1.57080 0.00000 0.00000" xyz="-0.22733 0.33776 0.37979"/>
      <geometry>
        <mesh filename="../meshes/obj/piece_1-collision.143.obj" scale="0.01338 0.01338 0.01338"/>
      </geometry>
    </collision>
    <collision name="piece_1-collision.144">
      <origin rpy="1.57080 0.00000 0.00000" xyz="-0.22733 0.33776 0.37979"/>
      <geometry>
        <mesh filename="../meshes/obj/piece_1-collision.144.obj" scale="0.01338 0.01338 0.01338"/>
      </geometry>
    </collision>
    <collision name="piece_1-collision.145">
      <origin rpy="1.57080 0.00000 0.00000" xyz="-0.22733 0.33776 0.37979"/>
      <geometry>
        <mesh filename="../meshes/obj/piece_1-collision.145.obj" scale="0.01338 0.01338 0.01338"/>
      </geometry>
    </collision>
    <collision name="piece_1-collision.146">
      <origin rpy="1.57080 0.00000 0.00000" xyz="-0.22733 0.33776 0.37979"/>
      <geometry>
        <mesh filename="../meshes/obj/piece_1-collision.146.obj" scale="0.01338 0.01338 0.01338"/>
      </geometry>
    </collision>
    <collision name="piece_1-collision.147">
      <origin rpy="1.57080 0.00000 0.00000" xyz="-0.22733 0.33776 0.37979"/>
      <geometry>
        <mesh filename="../meshes/obj/piece_1-collision.147.obj" scale="0.01338 0.01338 0.01338"/>
      </geometry>
    </collision>
    <collision name="piece_1-collision.148">
      <origin rpy="1.57080 0.00000 0.00000" xyz="-0.22733 0.33776 0.37979"/>
      <geometry>
        <mesh filename="../meshes/obj/piece_1-collision.148.obj" scale="0.01338 0.01338 0.01338"/>
      </geometry>
    </collision>
    <collision name="piece_1-collision.149">
      <origin rpy="1.57080 0.00000 0.00000" xyz="-0.22733 0.33776 0.37979"/>
      <geometry>
        <mesh filename="../meshes/obj/piece_1-collision.149.obj" scale="0.01338 0.01338 0.01338"/>
      </geometry>
    </collision>
    <collision name="piece_1-collision.150">
      <origin rpy="1.57080 0.00000 0.00000" xyz="-0.22733 0.33776 0.37979"/>
      <geometry>
        <mesh filename="../meshes/obj/piece_1-collision.150.obj" scale="0.01338 0.01338 0.01338"/>
      </geometry>
    </collision>
    <collision name="piece_1-collision.151">
      <origin rpy="1.57080 0.00000 0.00000" xyz="-0.22733 0.33776 0.37979"/>
      <geometry>
        <mesh filename="../meshes/obj/piece_1-collision.151.obj" scale="0.01338 0.01338 0.01338"/>
      </geometry>
    </collision>
    <collision name="piece_1-collision.152">
      <origin rpy="1.57080 0.00000 0.00000" xyz="-0.22733 0.33776 0.37979"/>
      <geometry>
        <mesh filename="../meshes/obj/piece_1-collision.152.obj" scale="0.01338 0.01338 0.01338"/>
      </geometry>
    </collision>
    <collision name="piece_1-collision.153">
      <origin rpy="1.57080 0.00000 0.00000" xyz="-0.22733 0.33776 0.37979"/>
      <geometry>
        <mesh filename="../meshes/obj/piece_1-collision.153.obj" scale="0.01338 0.01338 0.01338"/>
      </geometry>
    </collision>
    <collision name="piece_1-collision.154">
      <origin rpy="-3.14159 -0.00000 -1.57080" xyz="-0.23206 0.50381 0.64191"/>
      <geometry>
        <mesh filename="../meshes/obj/Cube.698.obj" scale="2.67513 2.67513 2.67513"/>
      </geometry>
    </collision>
    <inertial>
      <inertia ixx="0.06241" ixy="0.00282" ixz="0.00117" iyy="0.04400" iyz="-0.00733" izz="0.05154"/>
      <origin rpy="0.00000 0.00000 0.00000" xyz="-0.46552 0.49662 0.39650"/>
      <mass value="0.50000"/>
    </inertial>
    <visual name="piece_1">
      <material name="turnarrow"/>
      <origin rpy="1.57080 0.00000 0.00000" xyz="-0.22733 0.33776 0.37979"/>
      <geometry>
        <mesh filename="../meshes/obj/001.obj" scale="0.01338 0.01338 0.01338"/>
      </geometry>
    </visual>
  </link>
  <material name="turnarrow">
    <color rgba="0.53725 0.80000 0.76078 1.00000"/>
  </material>
</robot>
